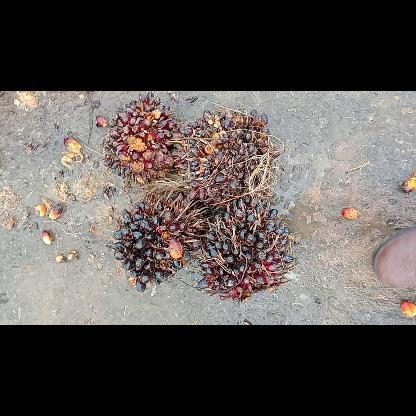TBS abnormal: (108, 180, 210, 300), (192, 194, 300, 304)
TBS masak: (174, 105, 284, 205), (96, 91, 190, 187)
